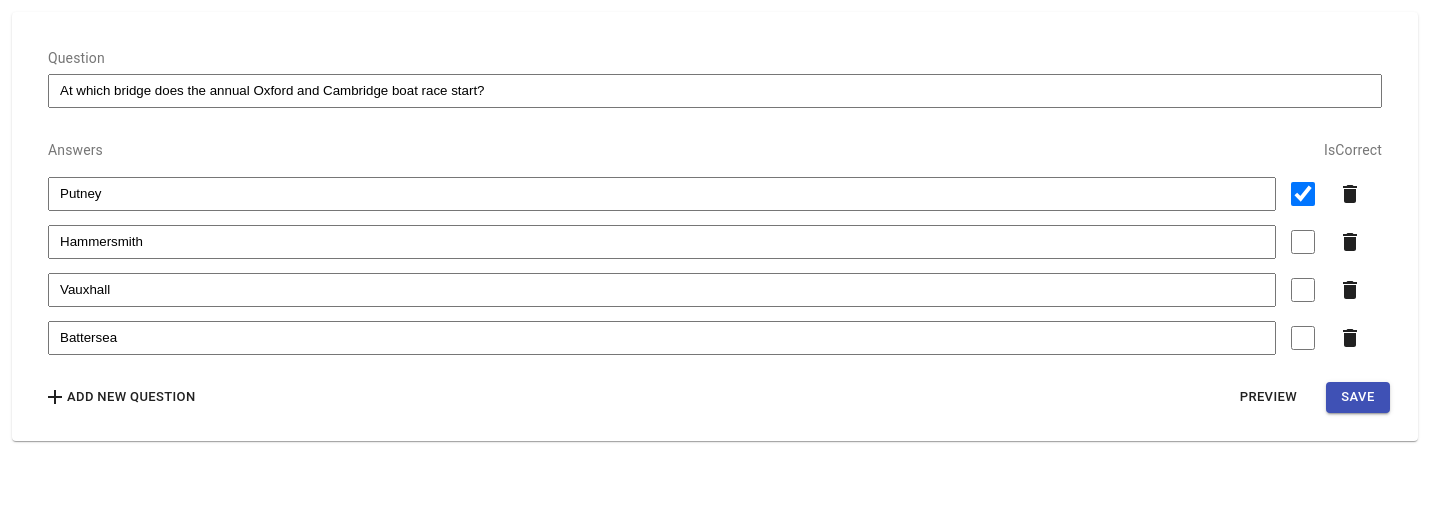
Question Editor › If all answers are selected as 'correct', you should see the relevant error message.
Check all incorrect answers to check ERROR_MUST_HAVE_INCORRECT error
Click the checkbox with test id "answer-check-1": (1303, 242) top-left (1291, 230), bottom-right (1315, 254)
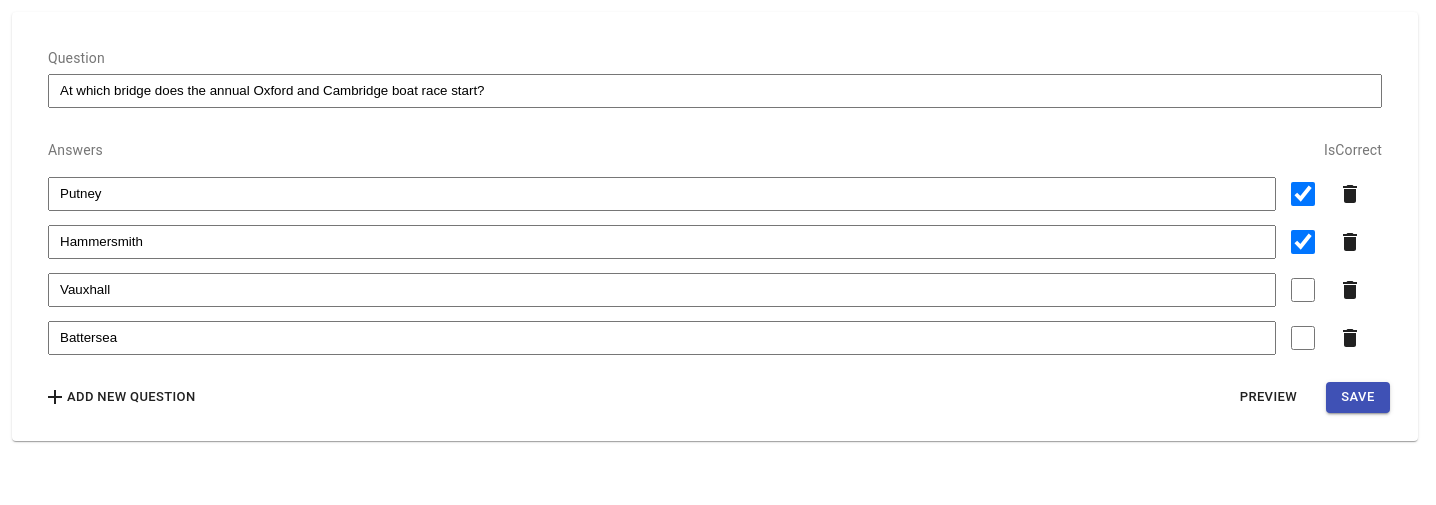
Click the checkbox with test id "answer-check-2": (1303, 290) top-left (1291, 278), bottom-right (1315, 302)
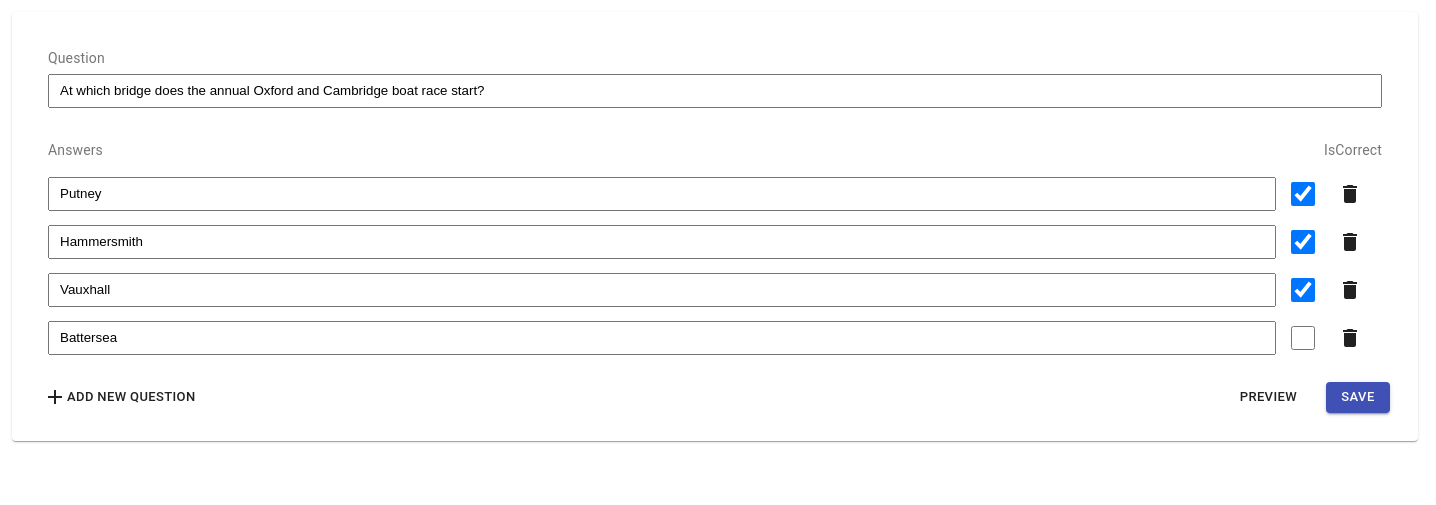
Click the checkbox with test id "answer-check-3": (1303, 338) top-left (1291, 326), bottom-right (1315, 350)
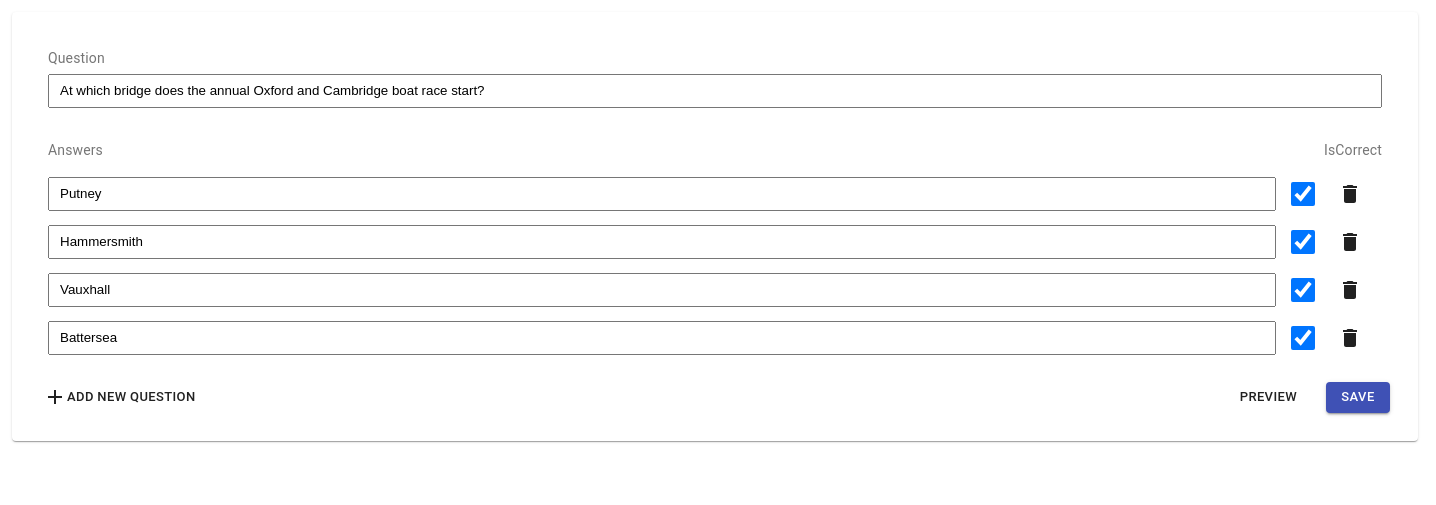
click save button which has "submit-question" test id
Click the button with test id "submit-question": (1358, 397) top-left (1326, 382), bottom-right (1390, 413)
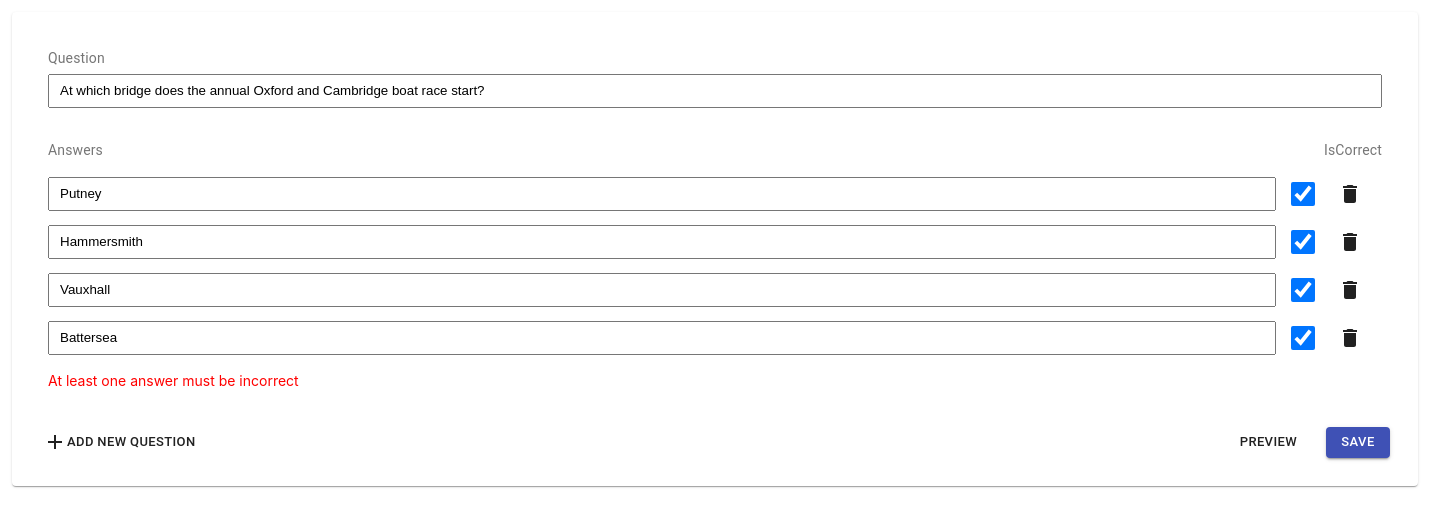
Check: the text "At least one answer must be incorrect" is shown, box top-left (48, 372), bottom-right (299, 389)
